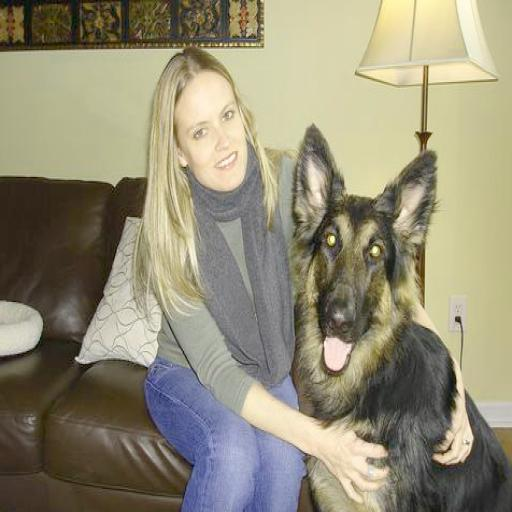dog_face: (292, 124, 432, 365)
